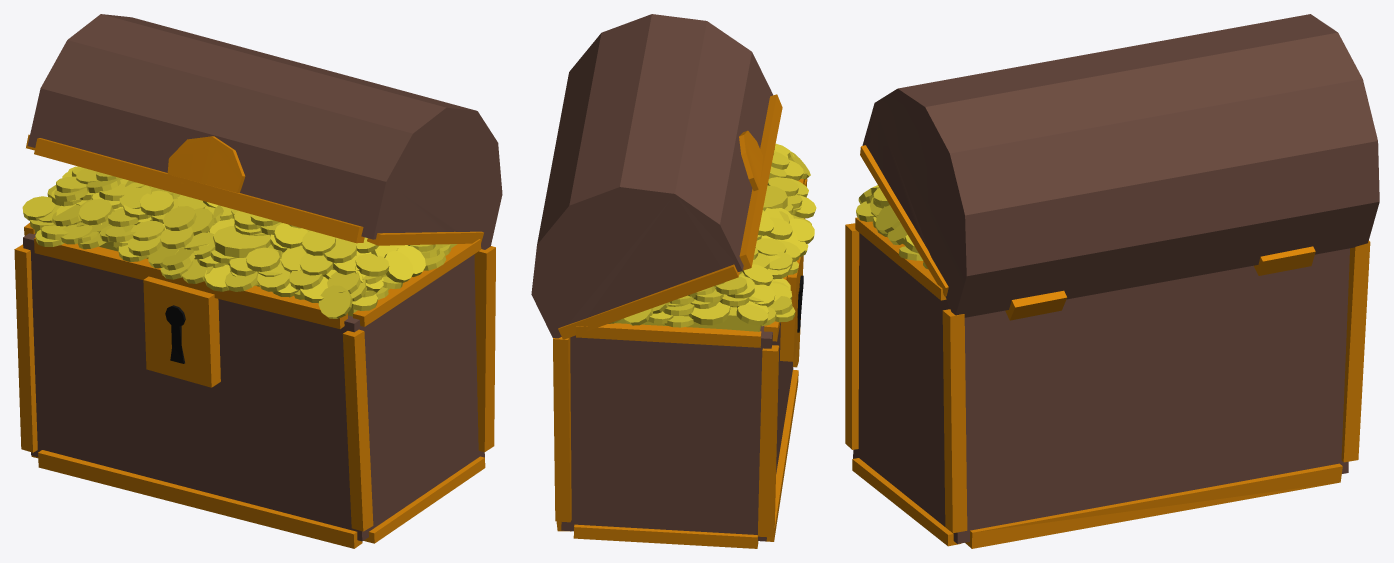
3 renders of one model, left to right at view 1: azimuth 30°, elevation 25°; view 2: azimuth 150°, elevation 25°; view 3: azimuth 270°, elevation 25°, orthographic. The views are drawn at different scales.
Visible parts, largest first — view 1: node_MeshObject-78522752-PolyPaper12, node_MeshObject660140032-PolyPaper12, node_MeshObject-1059845632-PolyPaper12; view 2: node_MeshObject-78522752-PolyPaper12, node_MeshObject660140032-PolyPaper12; view 3: node_MeshObject-78522752-PolyPaper12, node_MeshObject660140032-PolyPaper12, node_MeshObject-1059845632-PolyPaper12.
Boxes of the visible parts, x1,y1,x2,y2 form: node_MeshObject-78522752-PolyPaper12: [14, 14, 502, 548]; node_MeshObject660140032-PolyPaper12: [34, 138, 451, 531]; node_MeshObject-1059845632-PolyPaper12: [322, 231, 483, 279]; node_MeshObject-78522752-PolyPaper12: [531, 14, 810, 548]; node_MeshObject660140032-PolyPaper12: [608, 94, 816, 367]; node_MeshObject-78522752-PolyPaper12: [852, 14, 1379, 548]; node_MeshObject660140032-PolyPaper12: [845, 188, 927, 449]; node_MeshObject-1059845632-PolyPaper12: [860, 145, 948, 296].
Size of the model in its own units: 0.3611 by 0.3813 by 0.4293.
